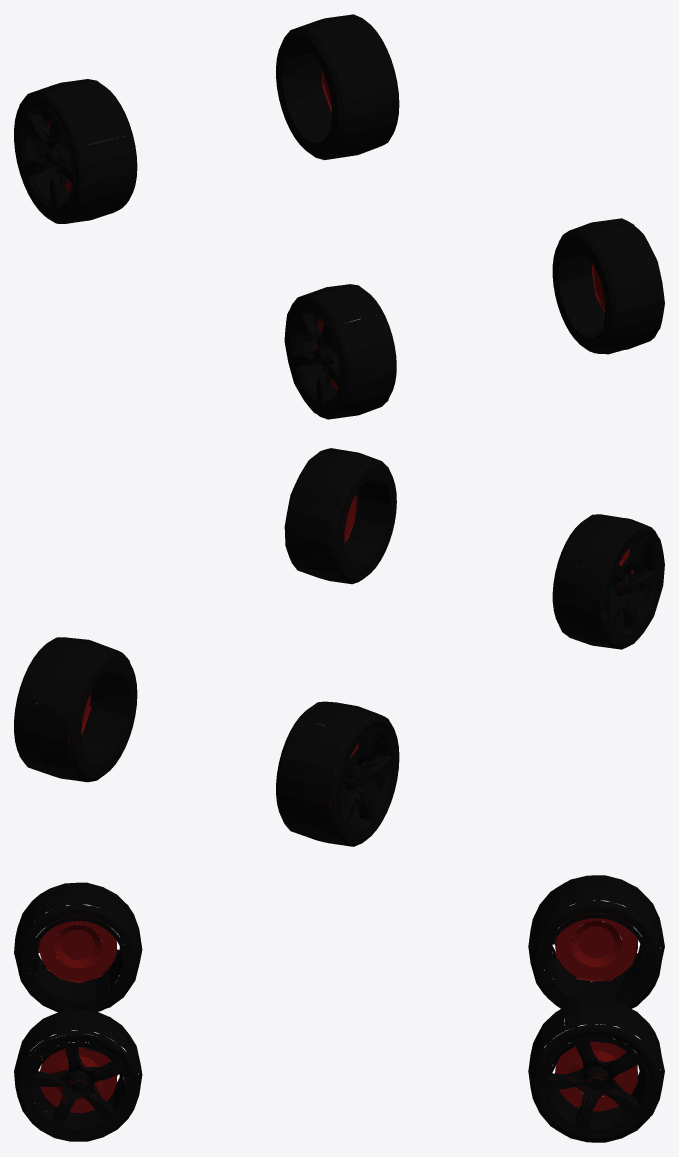
The picture shows the model from 3 angles, top to bottom: view 1: azimuth 30°, elevation 25°; view 2: azimuth 150°, elevation 25°; view 3: azimuth 270°, elevation 25°; orthographic projection. The views are drawn at different scales.
Visible parts, largest first — view 1: wheels.001; view 2: wheels.001; view 3: wheels.001.
Part boxes in pixels (bbox=[...]): wheels.001: bbox=[14, 14, 664, 419]; wheels.001: bbox=[14, 448, 664, 846]; wheels.001: bbox=[14, 875, 664, 1142].
Size of the model in its own units: 2.19 by 0.8254 by 3.95.
